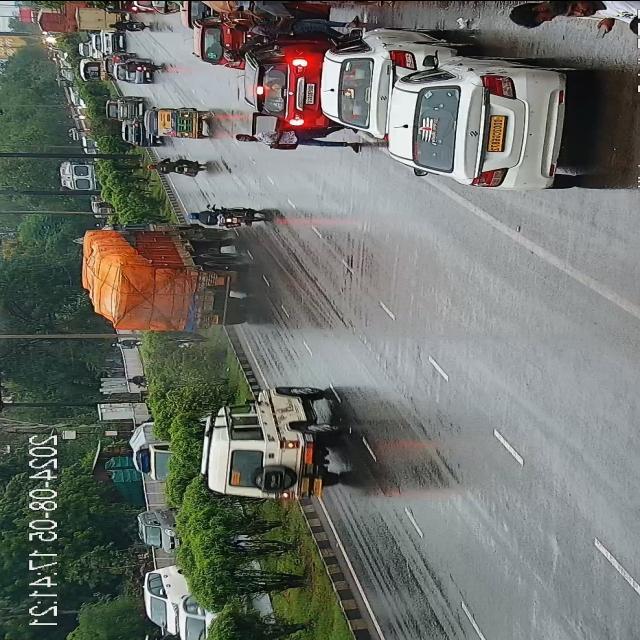2-wheelers: (186, 208, 266, 226), (146, 157, 202, 175), (112, 19, 144, 33), (109, 336, 142, 348), (120, 62, 158, 72), (125, 376, 151, 384)
auto: (150, 106, 209, 142)
car: (387, 43, 574, 193), (211, 384, 339, 506), (322, 31, 430, 136), (247, 50, 323, 138), (142, 564, 202, 640), (196, 15, 250, 67), (134, 507, 182, 551), (120, 118, 152, 151), (107, 95, 141, 126), (164, 0, 207, 21), (91, 31, 122, 50), (115, 71, 151, 83), (78, 40, 104, 56), (105, 52, 134, 60)
pedestrian: (238, 14, 362, 36), (563, 1, 640, 34), (235, 132, 358, 152), (510, 1, 558, 26), (280, 0, 386, 8)
truck: (84, 223, 245, 328), (122, 421, 174, 485), (58, 157, 104, 189), (66, 6, 116, 30), (36, 7, 74, 32), (78, 59, 110, 80)
